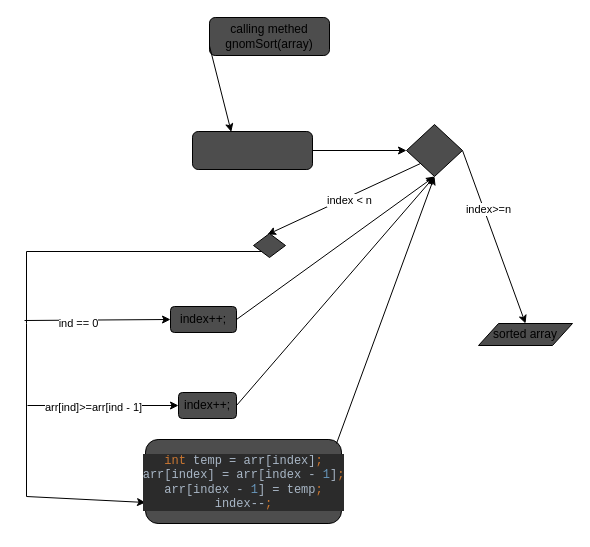
Image size: 590x547. Some labels were removed from this diagram. The shapes that lost their labels are listed below. From the top down, each one's centre as x and y in pixels, then its label:
At (x=252, y=150): "creating n = arr.length index = 0".
At (x=434, y=150): "while".
At (x=269, y=245): "if".
